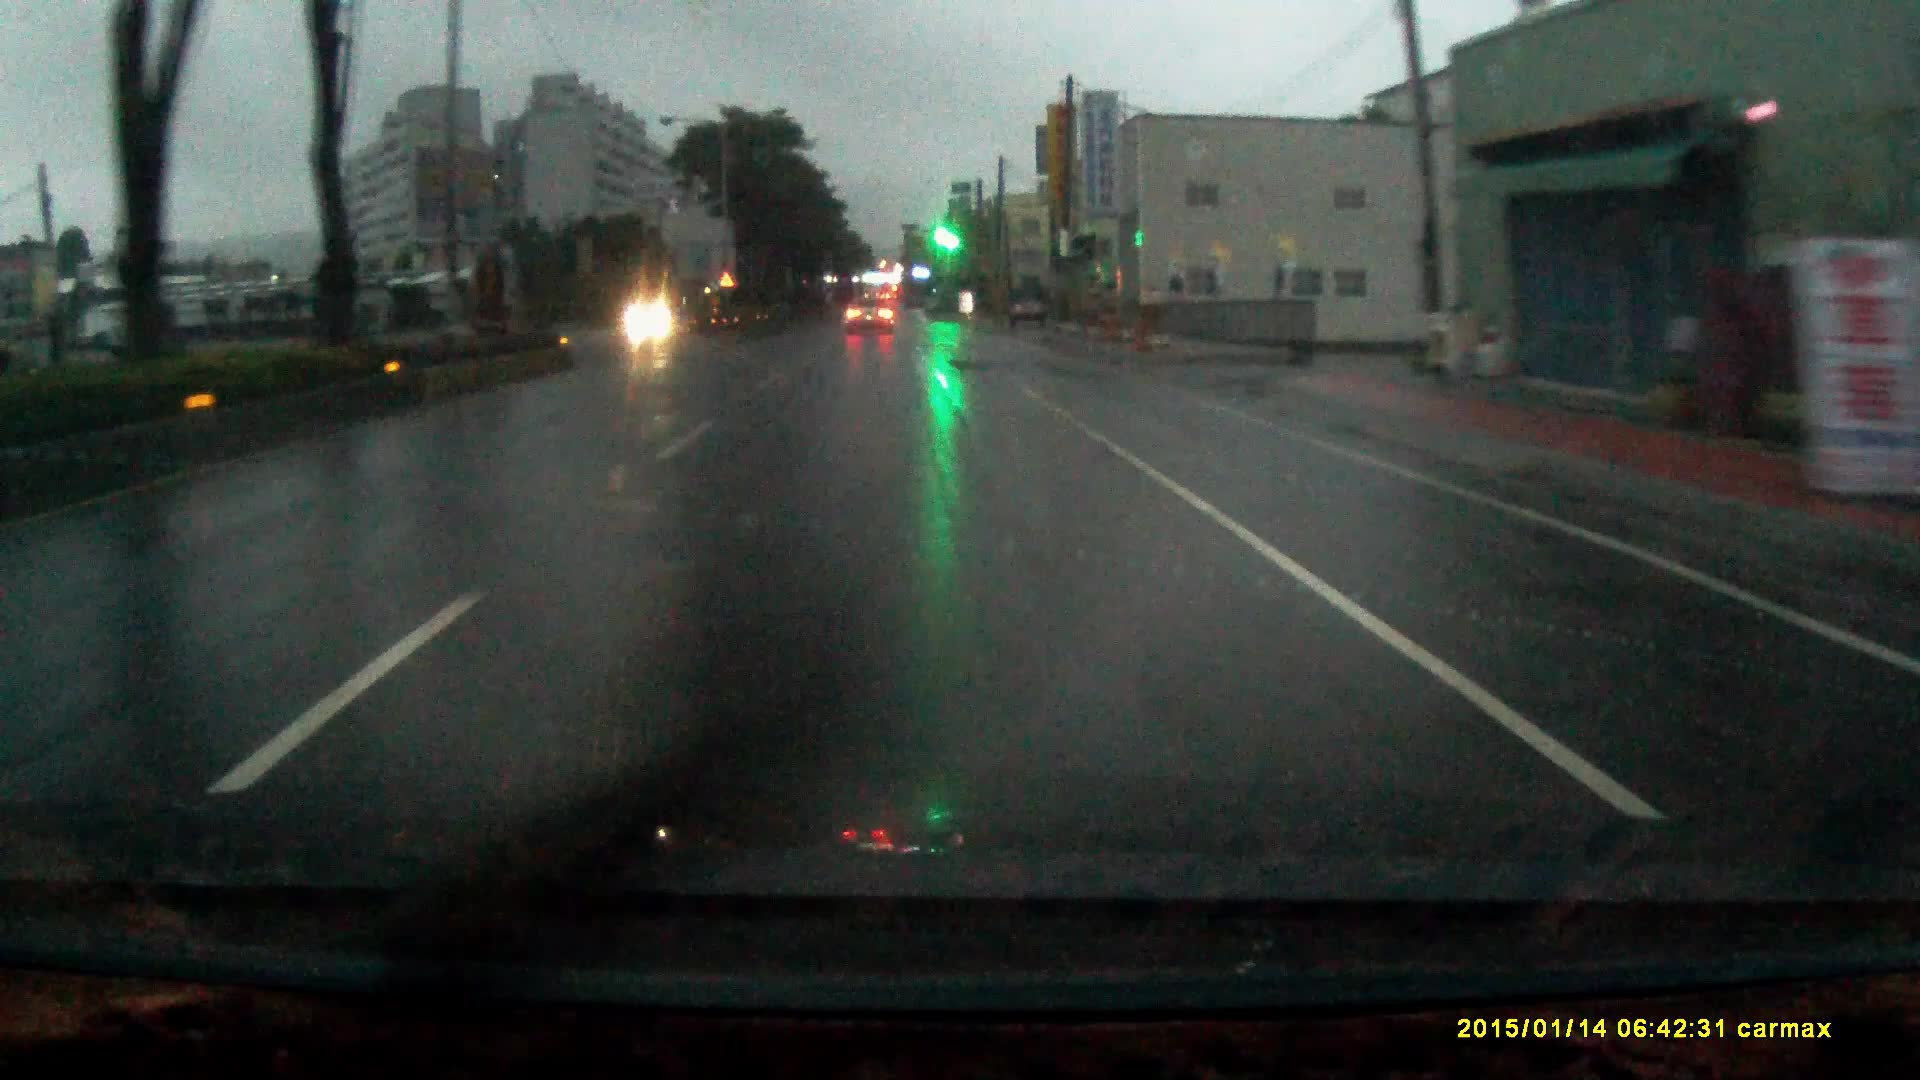vehicle: (847, 301, 899, 340), (1014, 285, 1050, 328)
